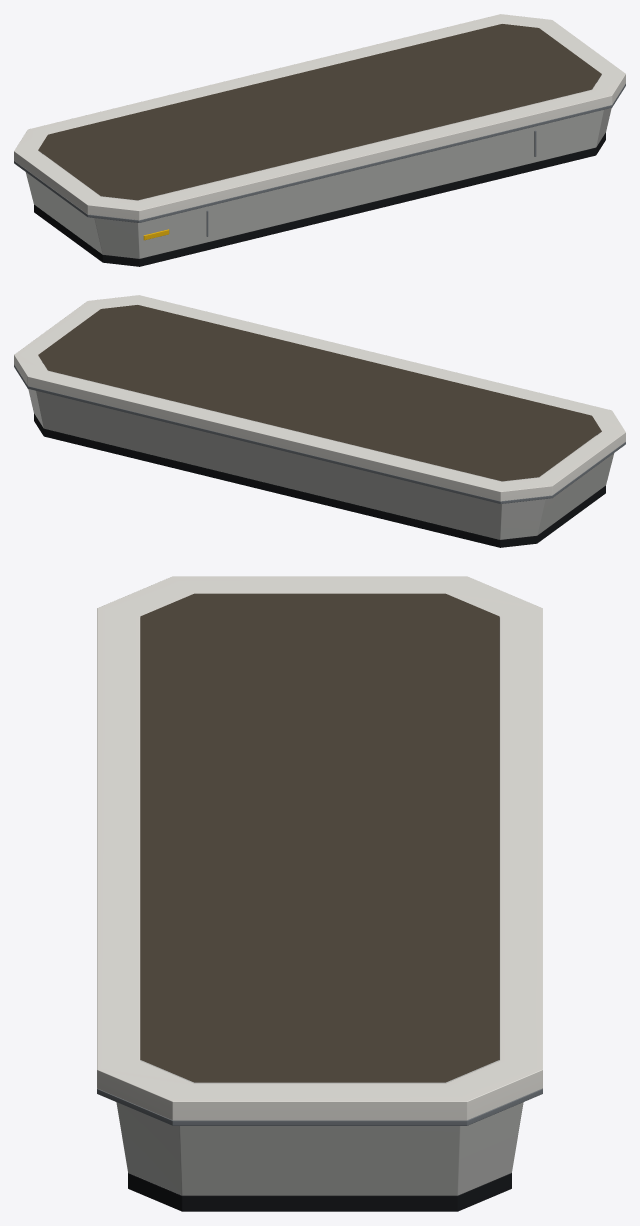
File: PROP_PLANTER_02.glb
3 renders of one model, top to bottom at view 1: azimuth 30°, elevation 25°; view 2: azimuth 150°, elevation 25°; view 3: azimuth 270°, elevation 25°, orthographic. The views are drawn at different scales.
Parts seen in each view (by area): view 1: CIVRUM_GAME_PROP_PLANTER_02; view 2: CIVRUM_GAME_PROP_PLANTER_02; view 3: CIVRUM_GAME_PROP_PLANTER_02.
Part boxes in pixels (left/top/right/bottom): CIVRUM_GAME_PROP_PLANTER_02: left=14, top=14, right=625, bottom=266; CIVRUM_GAME_PROP_PLANTER_02: left=14, top=295, right=625, bottom=547; CIVRUM_GAME_PROP_PLANTER_02: left=97, top=576, right=542, bottom=1211.
Bounding box in the file's own units: 4.6 × 0.523 × 1.65.
